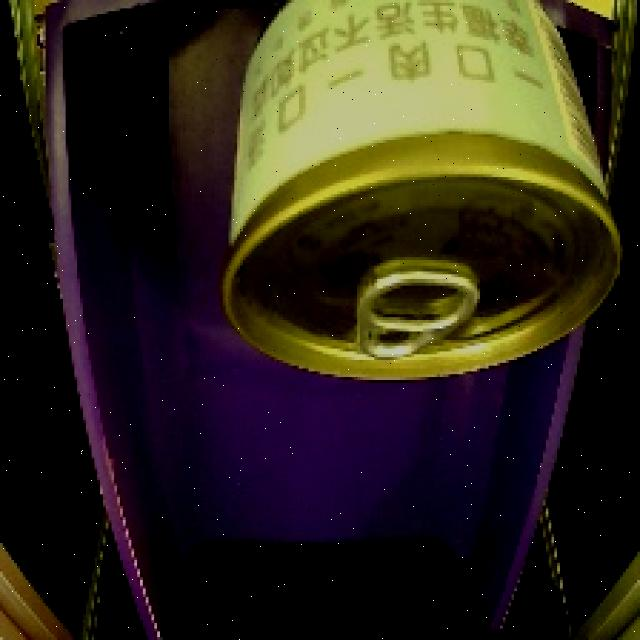metal: (212, 0, 636, 387)
